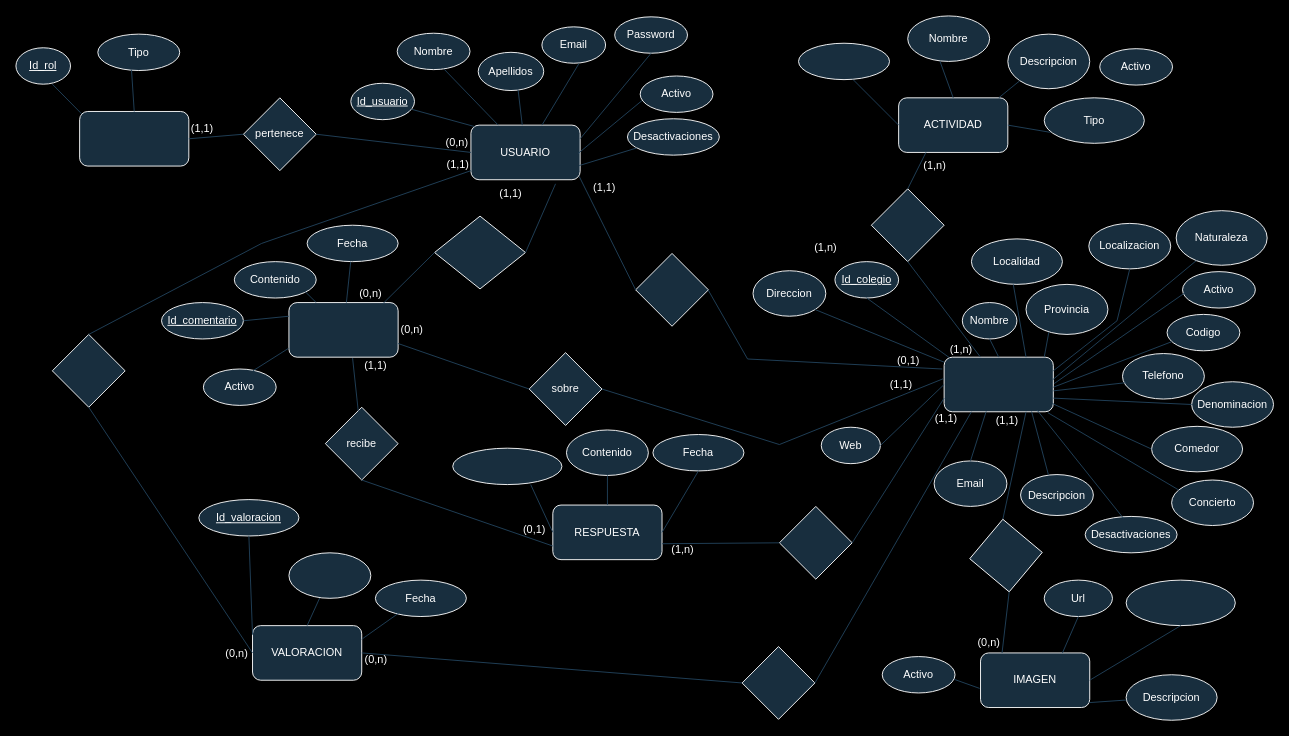
This 1289x736 diagram has some shape labels left out. Each missing label, with the centre of its shape:
"COLEGIO" goes at (x=998, y=384).
"COMENTARIO" goes at (x=343, y=329).
"comparte" goes at (x=1005, y=555).
"escribe" goes at (x=815, y=542).
"hace" goes at (x=480, y=252).
"Id_actividad" goes at (x=844, y=61).
"Id_imagen" goes at (x=1180, y=602).
"Id_respuesta" goes at (x=507, y=466).
"obtiene" goes at (x=778, y=682).
"oferta" goes at (x=907, y=225).
"Puntuacion" goes at (x=329, y=575).
"realiza" goes at (x=88, y=370).
"ROL" goes at (x=134, y=138).
"tiene" goes at (x=671, y=289).
